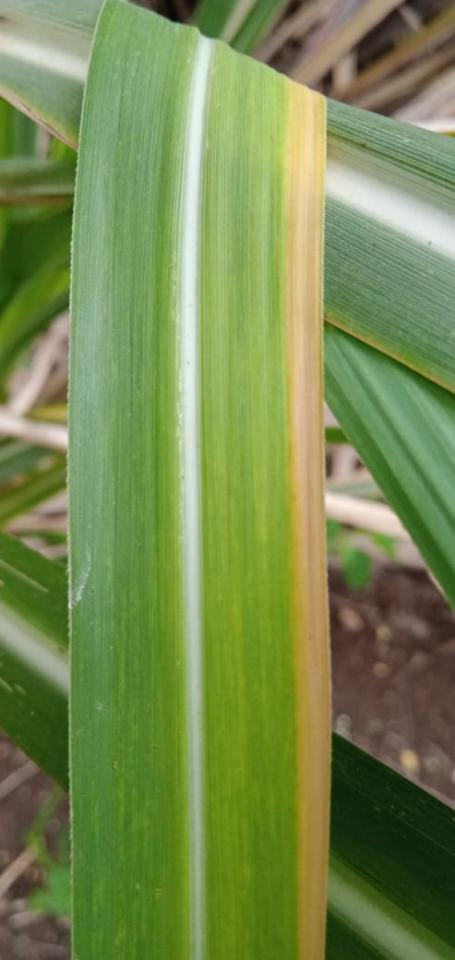Yellow: (290, 79, 330, 959)
